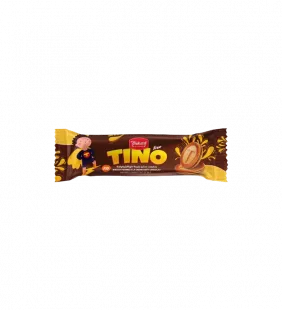TINO: (44, 117, 236, 188)
